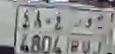0: (42, 16, 52, 54)
4: (20, 9, 29, 54), (53, 11, 62, 54)
8: (31, 9, 41, 54)
U: (81, 14, 92, 54)
